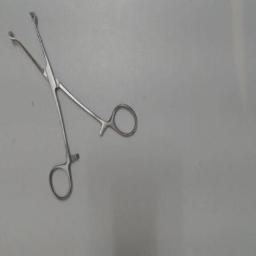Babcock Tissue Forceps: (6, 7, 140, 203)
